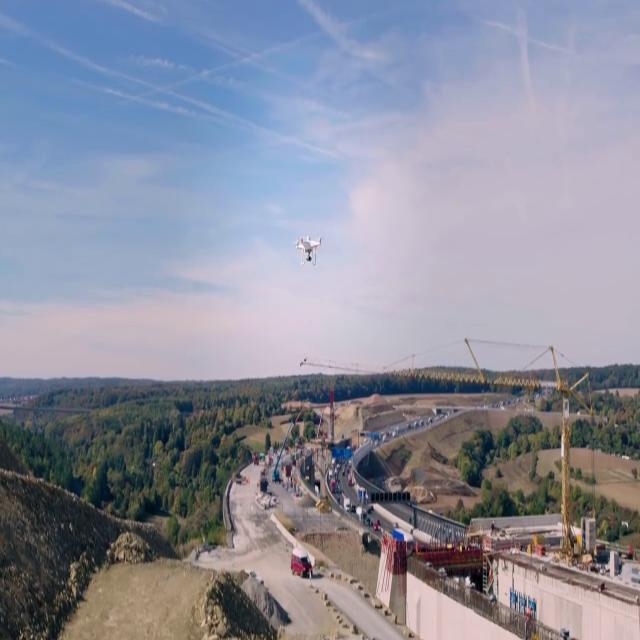drone: (292, 229, 326, 267)
